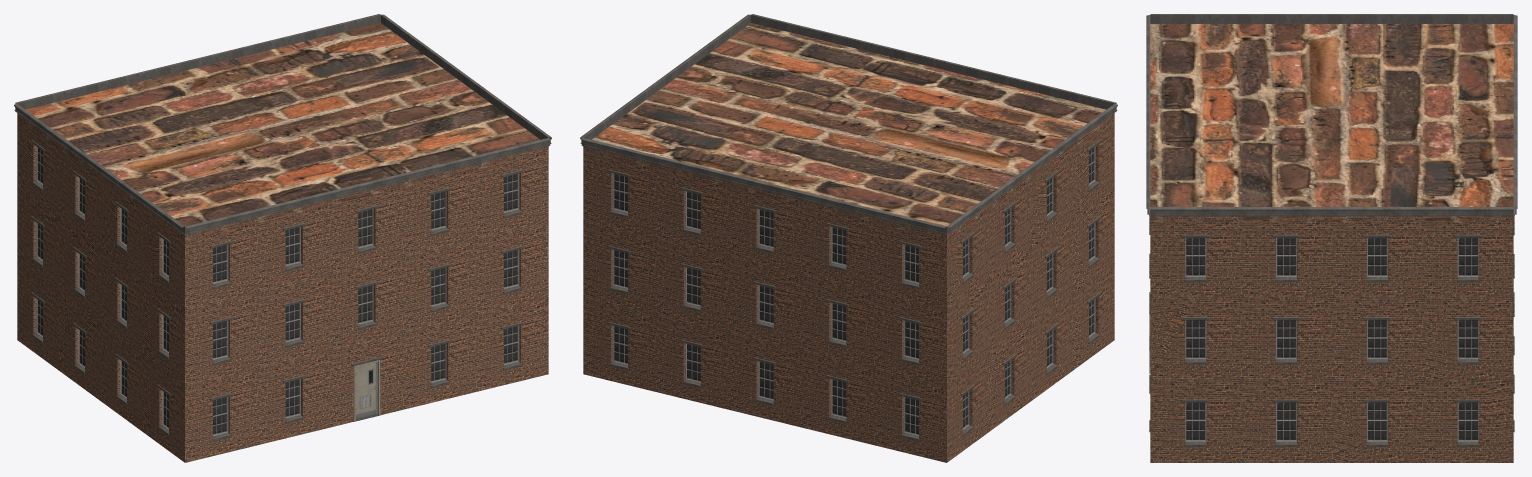
Rendered from place-brick-works.glb.
3 views of the same model, side by side, from view 1: azimuth 30°, elevation 25°; view 2: azimuth 150°, elevation 25°; view 3: azimuth 270°, elevation 25° (orthographic). The views are drawn at different scales.
Visible parts, largest first — view 1: wall_window_centered_small_01.001; view 2: wall_window_centered_small_01.001; view 3: wall_window_centered_small_01.001.
Part boxes in pixels (<box>): wall_window_centered_small_01.001: <box>14,14,551,462</box>; wall_window_centered_small_01.001: <box>580,14,1117,462</box>; wall_window_centered_small_01.001: <box>1146,14,1517,462</box>.
Size of the model in its own units: 15.26 by 9.32 by 12.26.
Materials: 5 (5 with a texture image).
